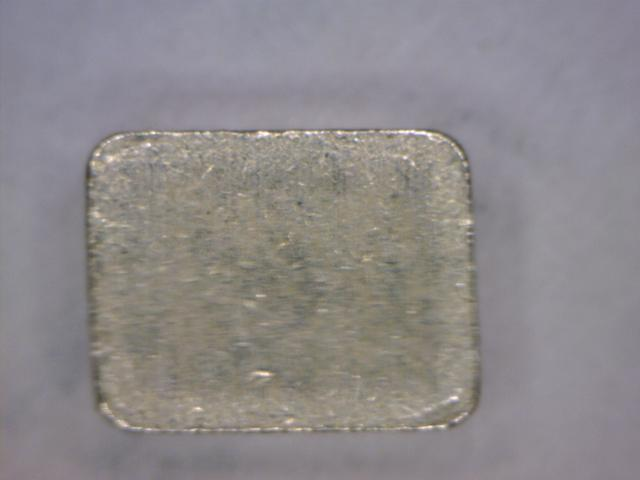ok: (76, 120, 500, 441)
